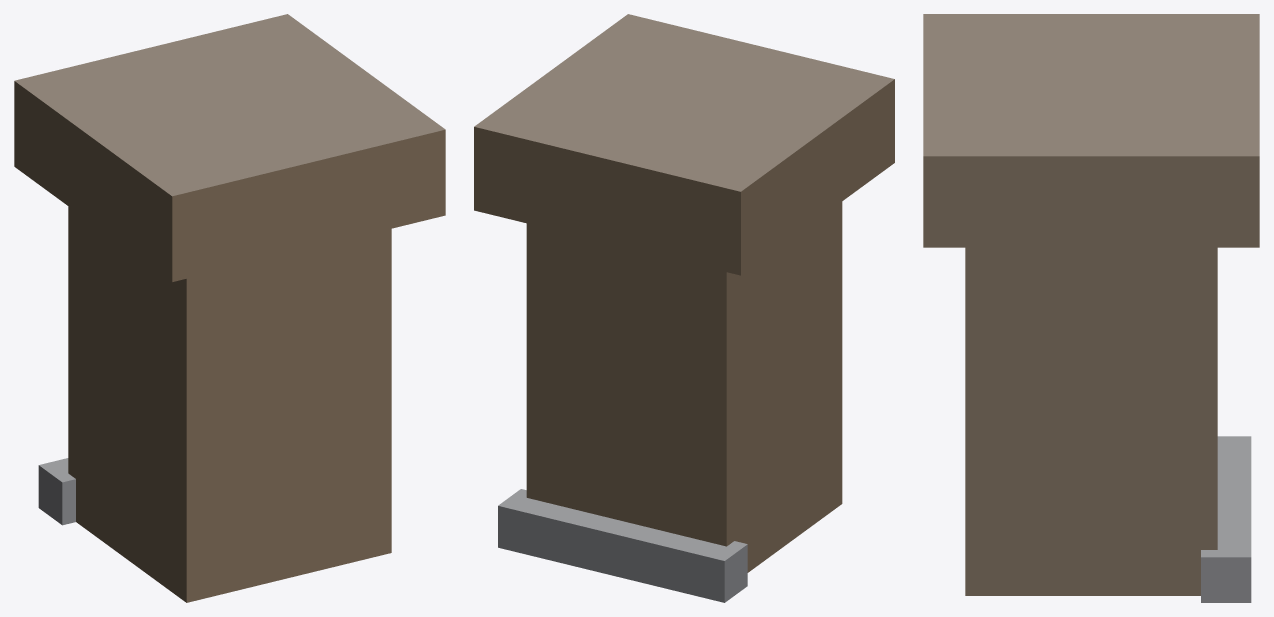
The model's file is tower.gltf.
3 views of the same model, side by side, from view 1: azimuth 30°, elevation 25°; view 2: azimuth 150°, elevation 25°; view 3: azimuth 270°, elevation 25° (orthographic). The views are drawn at different scales.
Visible parts, largest first — view 1: unit-tower; view 2: unit-tower; view 3: unit-tower.
Part boxes in pixels (x1,y1,x2,y2): unit-tower: (14, 14, 445, 602); unit-tower: (474, 14, 894, 602); unit-tower: (923, 14, 1259, 602).
Bounding box in the file's own units: 0.4 × 0.6 × 0.4.
